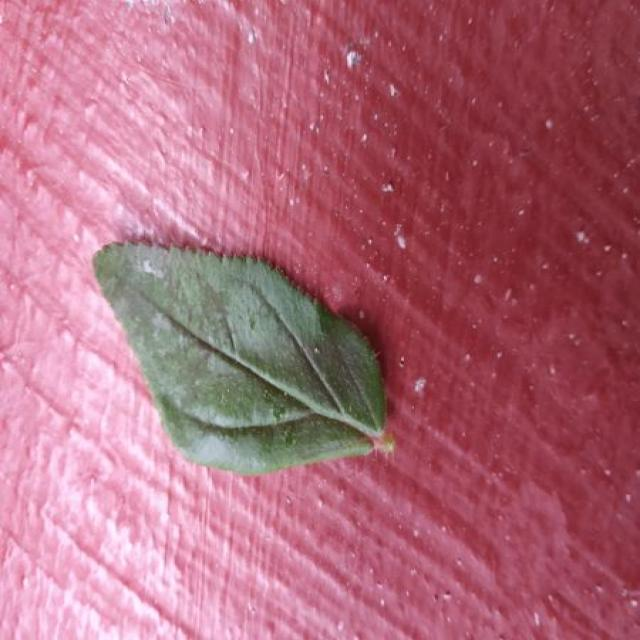Astma_weed: (95, 242, 390, 474)
